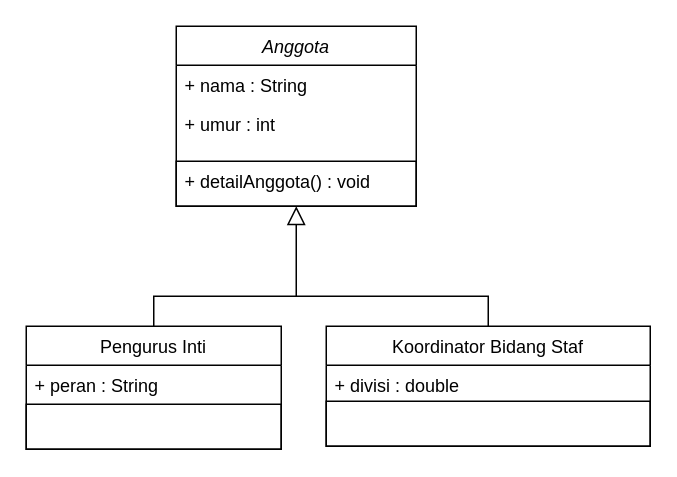
This 677x477 diagram has some shape labels left out. Each missing label, with the centre of its shape:
"+ detailKoordinatorBidangStaf() : void" belongs at [487,423].
"+ detailPengurusInti() : void" belongs at [153,426].
